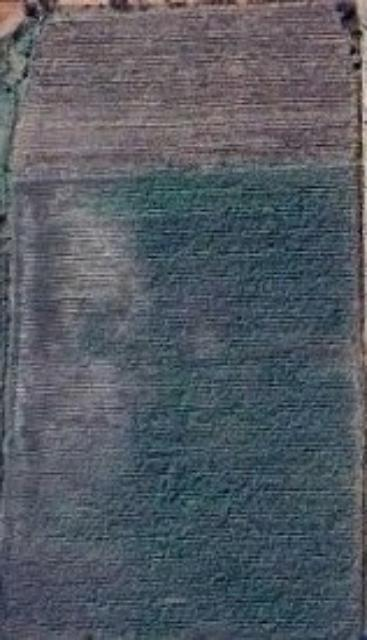Farms: (0, 169, 363, 637), (7, 4, 364, 181)
